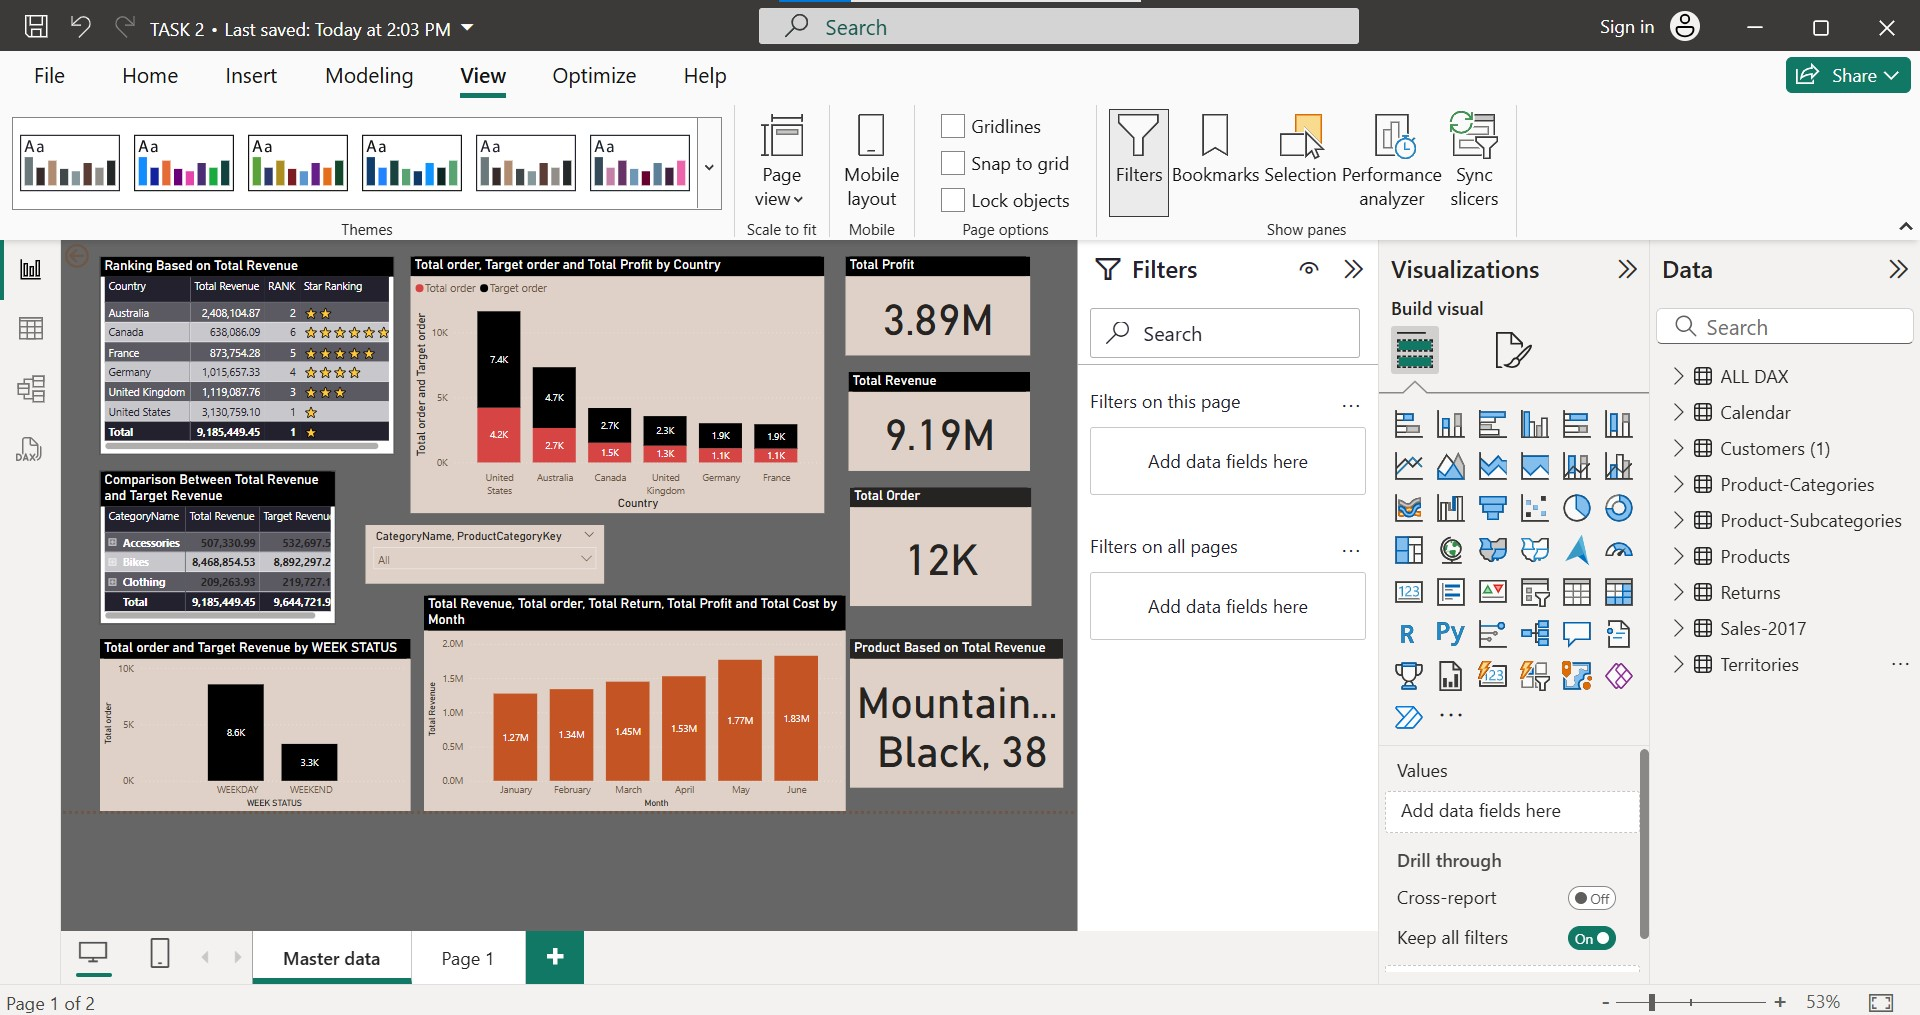

The dashboard page shown, as its layout file describes it:
{"tool":"powerbi","page":{"name":"Master data","canvas":[1280,720],"ordinal":0},"visuals":[{"type":"actionButton","box":[0,0,100,40],"z":0},{"type":"pivotTable","title":"Ranking Based on Total Revenue","fields":{"Rows":["Territories.Country"],"Values":["ALL DAX.Total Revenue","ALL DAX.RANK","ALL DAX.Star Ranking"]},"box":[49.1,20.8,370.4,249.5],"z":1000},{"type":"pivotTable","title":"Comparison Between Total Revenue and Target Revenue ","fields":{"Rows":["Product-Categories.CategoryName","Product-Subcategories.SubcategoryName"],"Values":["ALL DAX.Total Revenue","ALL DAX.Target Revenue"]},"box":[49.1,291,296.7,192.8],"z":2000},{"type":"columnChart","fields":{"Category":["Territories.Country"],"Y":["ALL DAX.Total order","ALL DAX.Target order"]},"box":[440.3,20.8,521.6,323.2],"z":3000},{"type":"clusteredColumnChart","fields":{"Category":["Calendar.WEEK STATUS"],"Y":["ALL DAX.Total order"]},"box":[49.1,502.7,391.2,217.3],"z":4000},{"type":"slicer","fields":{"Values":["Product-Categories.CategoryName","Product-Categories.ProductCategoryKey"]},"box":[383.6,359.1,300.5,73.7],"z":5000},{"type":"columnChart","fields":{"Category":["Calendar.Calendar.Variation.Date Hierarchy.Month"],"Y":["ALL DAX.Total Revenue"]},"box":[457.3,447.9,531,272.1],"z":6000},{"type":"card","title":"Total Profit","fields":{"Values":["ALL DAX.Total Profit"]},"box":[988.4,20.8,232.4,124.7],"z":7000},{"type":"card","title":"Total Revenue ","fields":{"Values":["ALL DAX.Total Revenue"]},"box":[992.1,166.3,228.7,124.7],"z":8000},{"type":"card","title":"Total Order","fields":{"Values":["ALL DAX.Total order"]},"box":[994,311.8,228.7,149.3],"z":9000},{"type":"card","title":"Product Based on Total Revenue ","fields":{"Values":["Min(Products.ProductName)"]},"box":[994,502.7,268.3,187.1],"z":10000}]}

Visuals, with their boxes on the page's 1280x720 design canvas (x1, y1, x2, y2). These are canvas units, not pixel positions in the 1920x1015 screenshot, which may show the page scaled, cropped or inside an application window:
actionButton: bbox=[0, 0, 100, 40]
"Ranking Based on Total Revenue" pivotTable: bbox=[49, 21, 420, 270]
"Comparison Between Total Revenue and Target Revenue " pivotTable: bbox=[49, 291, 346, 484]
columnChart - Territories.Country x ALL DAX.Total order: bbox=[440, 21, 962, 344]
clusteredColumnChart - Calendar.WEEK STATUS x ALL DAX.Total order: bbox=[49, 503, 440, 720]
slicer - Product-Categories.CategoryName x Product-Categories.ProductCategoryKey: bbox=[384, 359, 684, 433]
columnChart - Calendar.Calendar.Variation.Date Hierarchy.Month x ALL DAX.Total Revenue: bbox=[457, 448, 988, 720]
"Total Profit" card: bbox=[988, 21, 1221, 146]
"Total Revenue " card: bbox=[992, 166, 1221, 291]
"Total Order" card: bbox=[994, 312, 1223, 461]
"Product Based on Total Revenue " card: bbox=[994, 503, 1262, 690]
